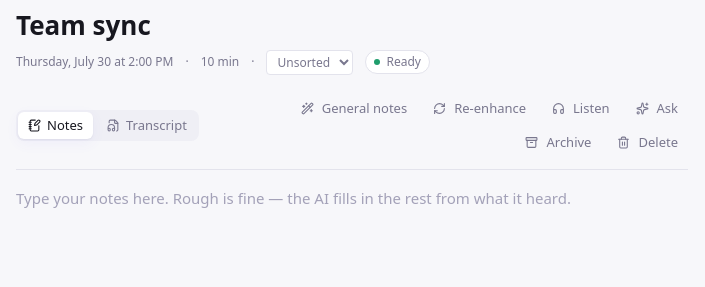
Scenario: Listen › minimises back into the toolbar
The width and height of the screenshot is (705, 287).
Click the button "Listen". click: coordinates (581, 108)
box: [542,94,620,122]
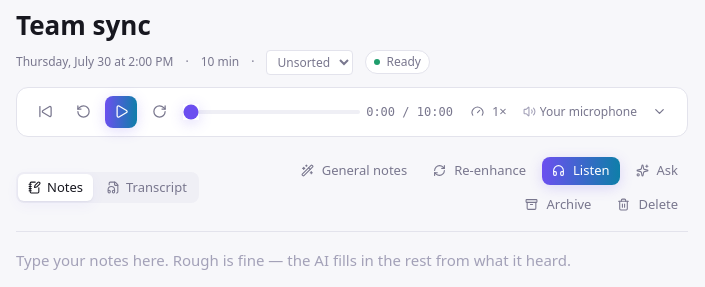
Click the button named "minimise". click: coordinates (659, 112)
box: [643,96,675,128]
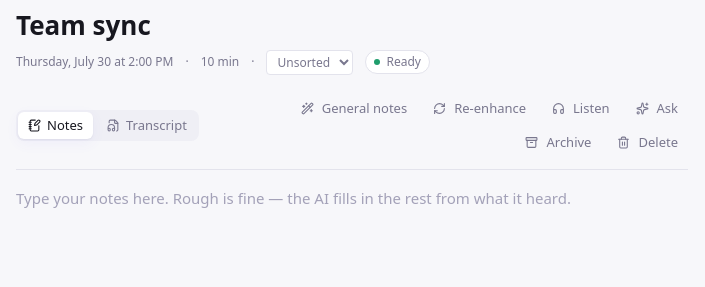
Expected: the button "playback" is gone
